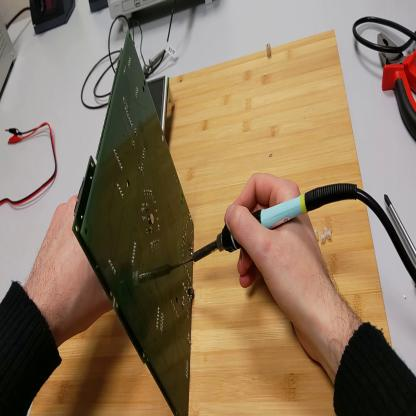hand: (226, 177, 335, 342), (28, 195, 123, 351)
low voltage board: (73, 31, 196, 416)
oscilloscope: (109, 3, 213, 29)
oscilloscope probe tip: (145, 45, 169, 77)
pliers: (377, 24, 416, 142)
screwdriver-: (386, 197, 416, 262)
socket: (29, 2, 75, 38), (89, 2, 107, 17)
welder probe tip: (185, 184, 359, 263)
working area: (31, 30, 392, 415)
